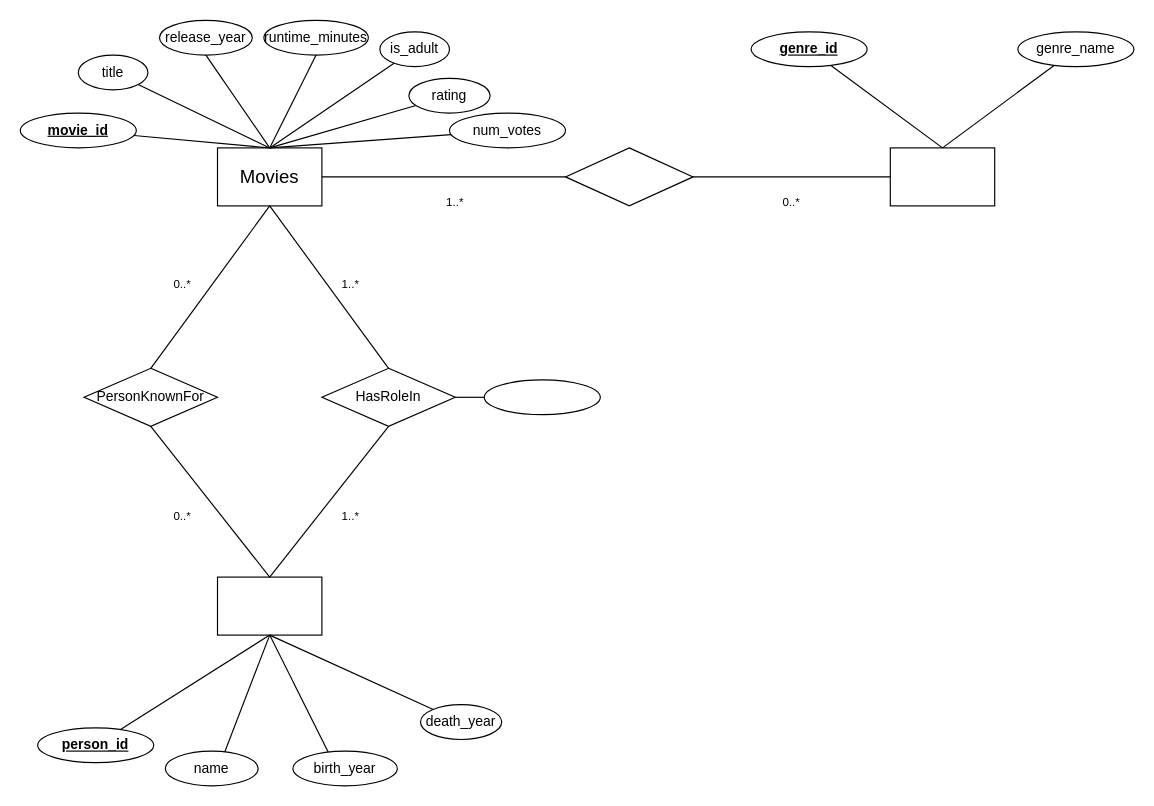
Image size: 1154x806. Some labels were removed from this diagram. The centre of each missing label's shape, as x and y in pixels:
Belongs to: [628,176]
Genres: [942,176]
People: [269,605]
role: [541,397]
